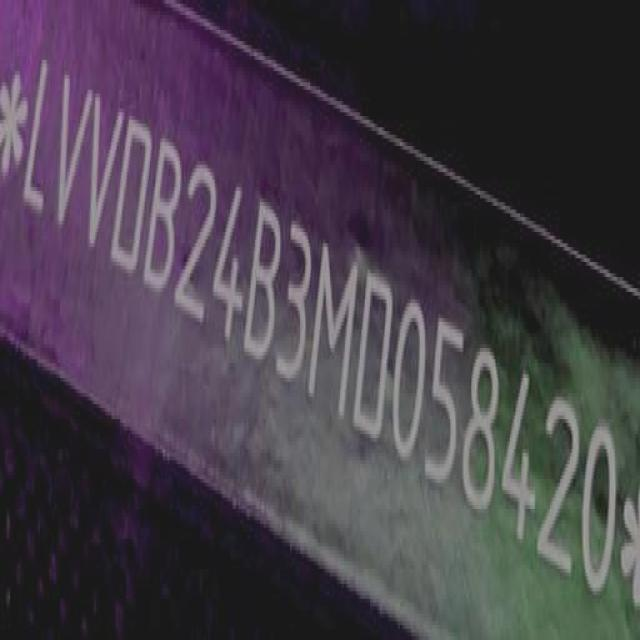0: (582, 406, 623, 606), (390, 285, 432, 474)
2: (539, 384, 586, 587), (178, 147, 220, 332)
3: (281, 203, 318, 396)
4: (500, 354, 544, 563), (210, 169, 251, 351)
5: (422, 307, 464, 499)
8: (460, 332, 502, 527)
B: (247, 190, 287, 376), (142, 127, 182, 303)
D: (356, 258, 398, 454), (114, 112, 154, 288)
L: (21, 54, 58, 222)
M: (310, 223, 362, 435)
V: (86, 85, 127, 268), (51, 64, 93, 242)
